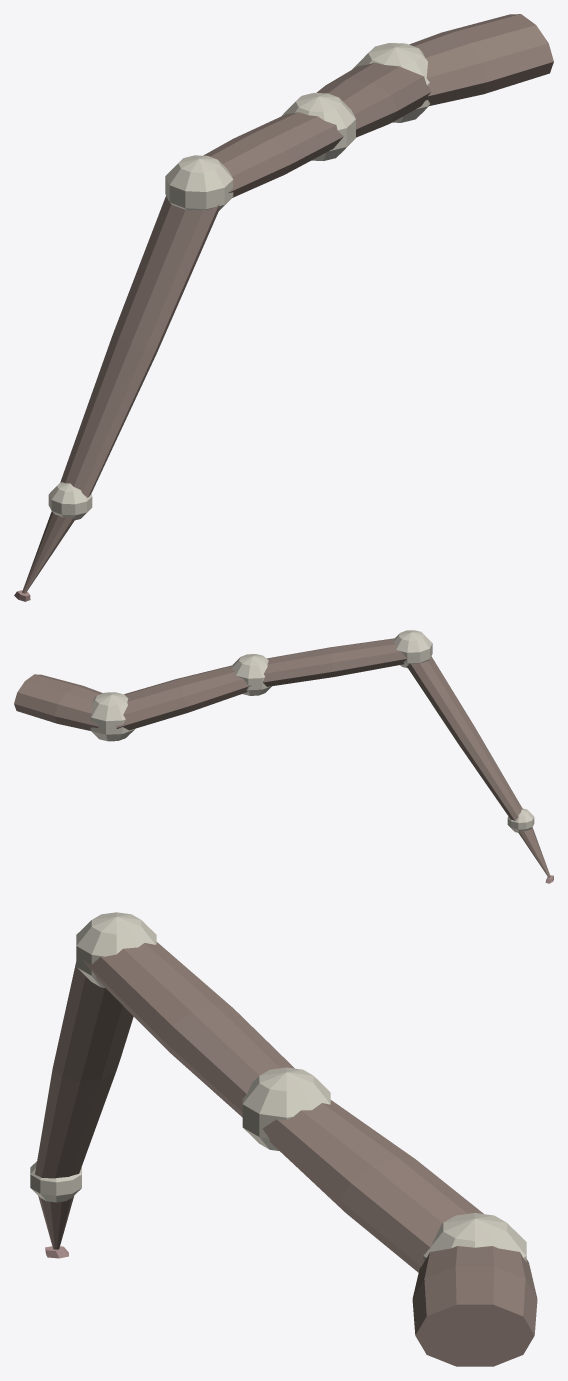
File: crab_leg_l4_original_01.glb
3 renders of one model, top to bottom at view 1: azimuth 30°, elevation 25°; view 2: azimuth 150°, elevation 25°; view 3: azimuth 270°, elevation 25°, orthographic. The views are drawn at different scales.
Visible parts, largest first — view 1: L4Segment3, L4Segment0, L4Segment2, L4Segment1, L4Articulation3, L4Articulation2, L4Articulation1, L4Segment4, L4Articulation4; view 2: L4Segment1, L4Segment3, L4Segment2, L4Segment0, L4Articulation1, L4Articulation2, L4Articulation3, L4Segment4, L4Articulation4; view 3: L4Segment1, L4Segment2, L4Segment0, L4Segment3, L4Articulation2, L4Articulation3, L4Articulation1, L4Articulation4, L4Segment4.
Part boxes in pixels (<box>): L4Segment3: <box>60,196,219,497</box>; L4Segment0: <box>409,14,553,106</box>; L4Segment2: <box>203,112,343,197</box>; L4Segment1: <box>316,62,430,137</box>; L4Articulation3: <box>165,155,233,210</box>; L4Articulation2: <box>281,93,355,160</box>; L4Articulation1: <box>352,43,430,122</box>; L4Segment4: <box>22,511,74,593</box>; L4Articulation4: <box>48,482,92,520</box>; L4Segment1: <box>116,665,251,730</box>; L4Segment3: <box>406,656,522,820</box>; L4Segment2: <box>262,638,411,686</box>; L4Segment0: <box>14,674,102,730</box>; L4Articulation1: <box>90,692,134,741</box>; L4Articulation2: <box>231,654,271,695</box>; L4Articulation3: <box>393,630,432,668</box>; L4Segment4: <box>518,827,550,877</box>; L4Articulation4: <box>507,808,534,832</box>; L4Segment1: <box>262,1100,483,1272</box>; L4Segment2: <box>82,942,294,1117</box>; L4Segment0: <box>412,1246,537,1366</box>; L4Segment3: <box>35,962,133,1178</box>; L4Articulation2: <box>242,1067,330,1150</box>; L4Articulation3: <box>76,912,156,987</box>; L4Articulation1: <box>423,1213,526,1261</box>; L4Articulation4: <box>30,1161,81,1202</box>; L4Segment4: <box>38,1196,73,1249</box>.
Size of the model in its own units: 0.5794 by 0.3023 by 0.3027.
